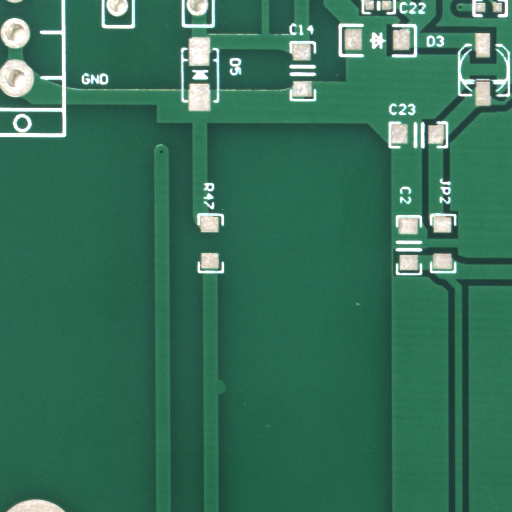Spur: (221, 387, 230, 406)
